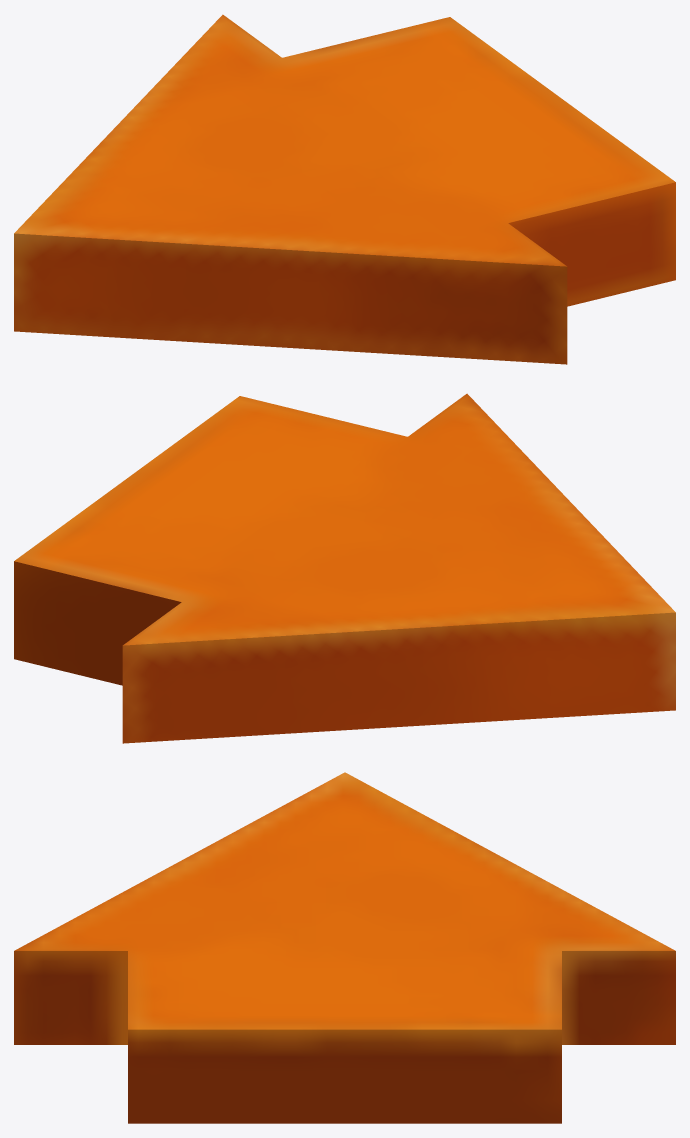
The model's file is arrow.FBX.
The picture shows the model from 3 angles, top to bottom: view 1: azimuth 30°, elevation 25°; view 2: azimuth 150°, elevation 25°; view 3: azimuth 270°, elevation 25°; orthographic projection. The views are drawn at different scales.
Visible parts, largest first — view 1: Box001; view 2: Box001; view 3: Box001.
Part boxes in pixels (bbox=[...]): Box001: bbox=[14, 14, 675, 364]; Box001: bbox=[14, 393, 675, 743]; Box001: bbox=[14, 772, 675, 1123].
Bounding box in the file's own units: 0.5856 × 0.0998 × 0.6365.
1 material, 1 textured.
